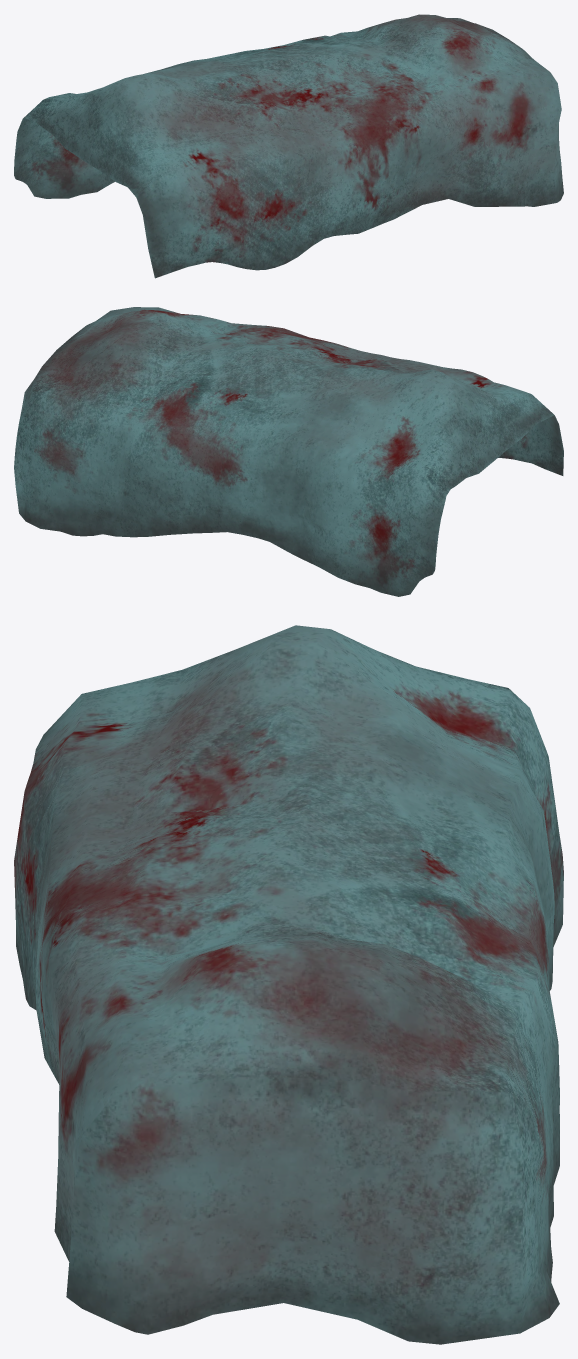
Rendered from covered_body.glb.
3 renders of one model, top to bottom at view 1: azimuth 30°, elevation 25°; view 2: azimuth 150°, elevation 25°; view 3: azimuth 270°, elevation 25°, orthographic. The views are drawn at different scales.
Parts seen in each view (by area): view 1: covered_body; view 2: covered_body; view 3: covered_body.
Part boxes in pixels (x1,y1,x2,y2): covered_body: (14, 14, 563, 278); covered_body: (14, 307, 563, 596); covered_body: (14, 625, 563, 1344).
Size of the model in its own units: 1.79 by 0.7174 by 0.9947.
Materials: 1 (1 with a texture image).
